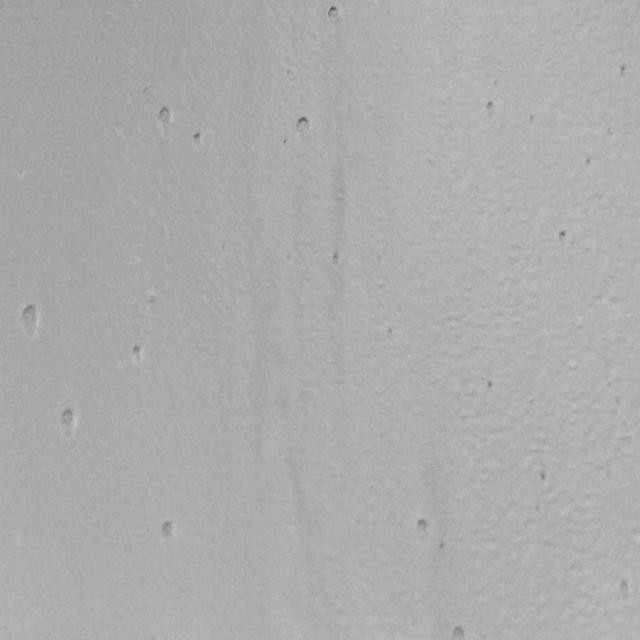pin holes: (18, 302, 42, 339), (56, 405, 80, 438), (158, 517, 180, 544), (153, 106, 174, 134), (292, 116, 314, 142), (616, 576, 636, 604), (413, 516, 435, 541), (482, 98, 502, 123), (534, 465, 554, 489), (189, 130, 208, 154), (323, 2, 343, 24), (129, 342, 148, 365), (327, 247, 345, 270), (447, 624, 470, 640), (146, 292, 164, 311), (556, 228, 572, 248), (618, 61, 632, 81), (372, 248, 384, 268), (482, 378, 495, 396), (582, 154, 596, 170), (437, 537, 449, 555), (280, 134, 290, 154), (387, 324, 396, 338)
